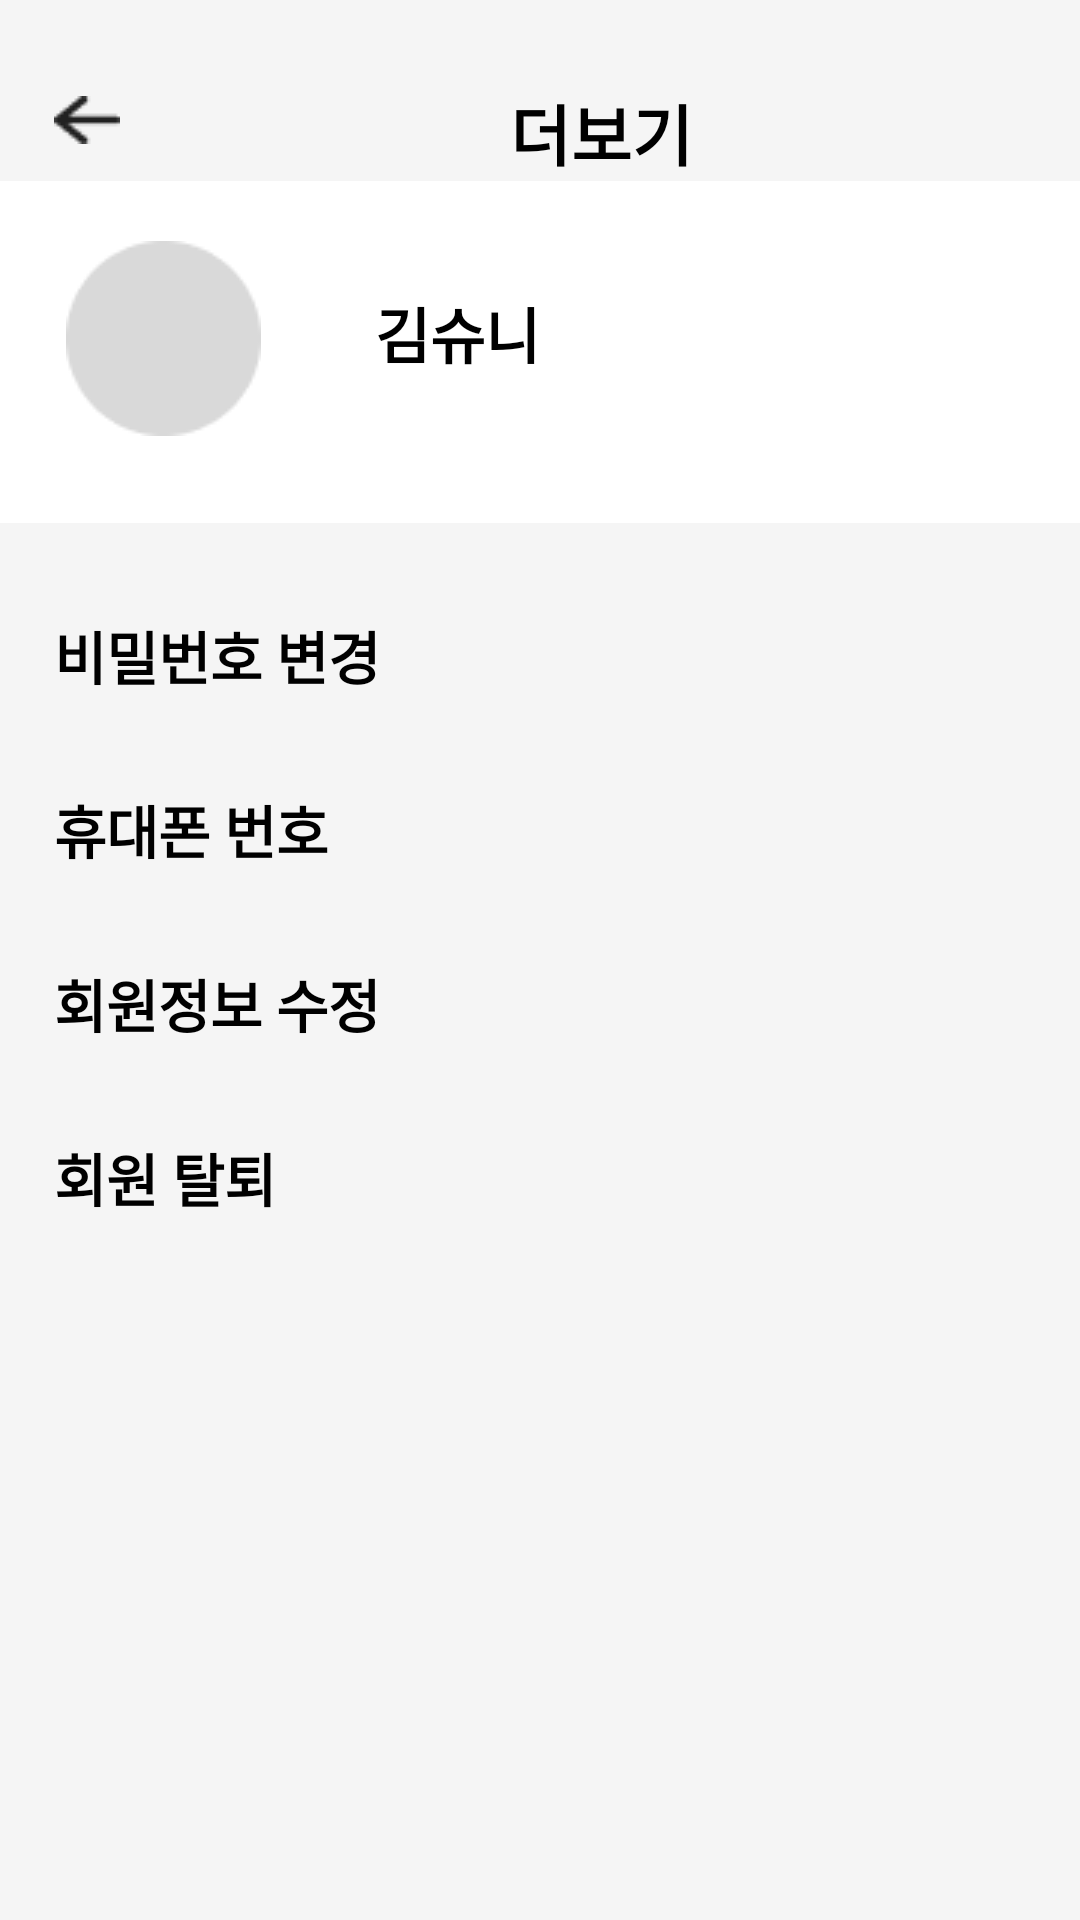

Named icons in this screenshot (1080 x 1920) and their bounding boxes, (x1, y1, x2, y2):
arrow: (54, 96, 120, 144)
